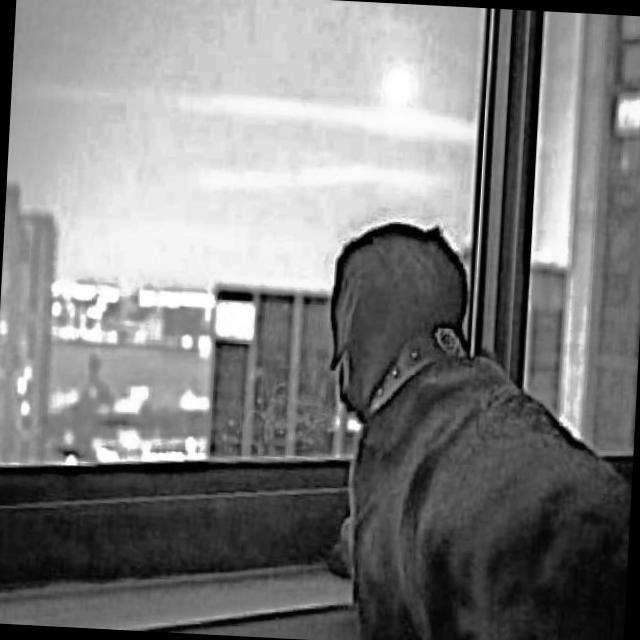Dog: (305, 211, 640, 640)
